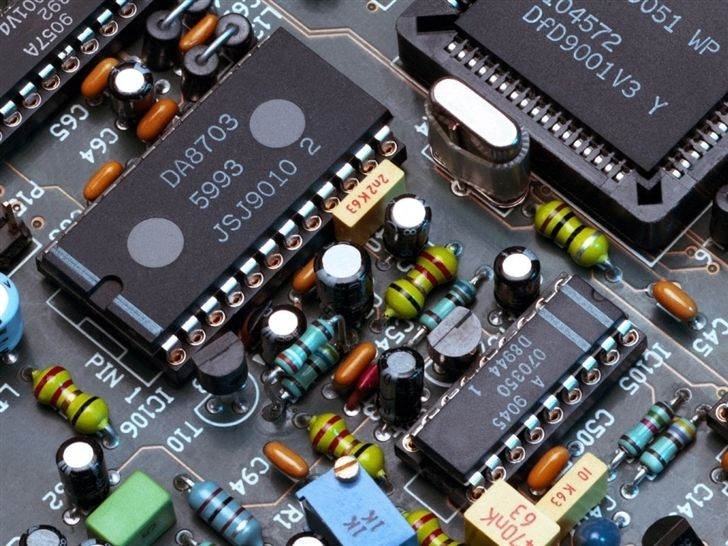capacitor: (42, 424, 125, 505), (310, 233, 376, 327), (365, 339, 431, 428), (479, 235, 551, 316), (374, 190, 437, 267), (98, 52, 161, 129)
